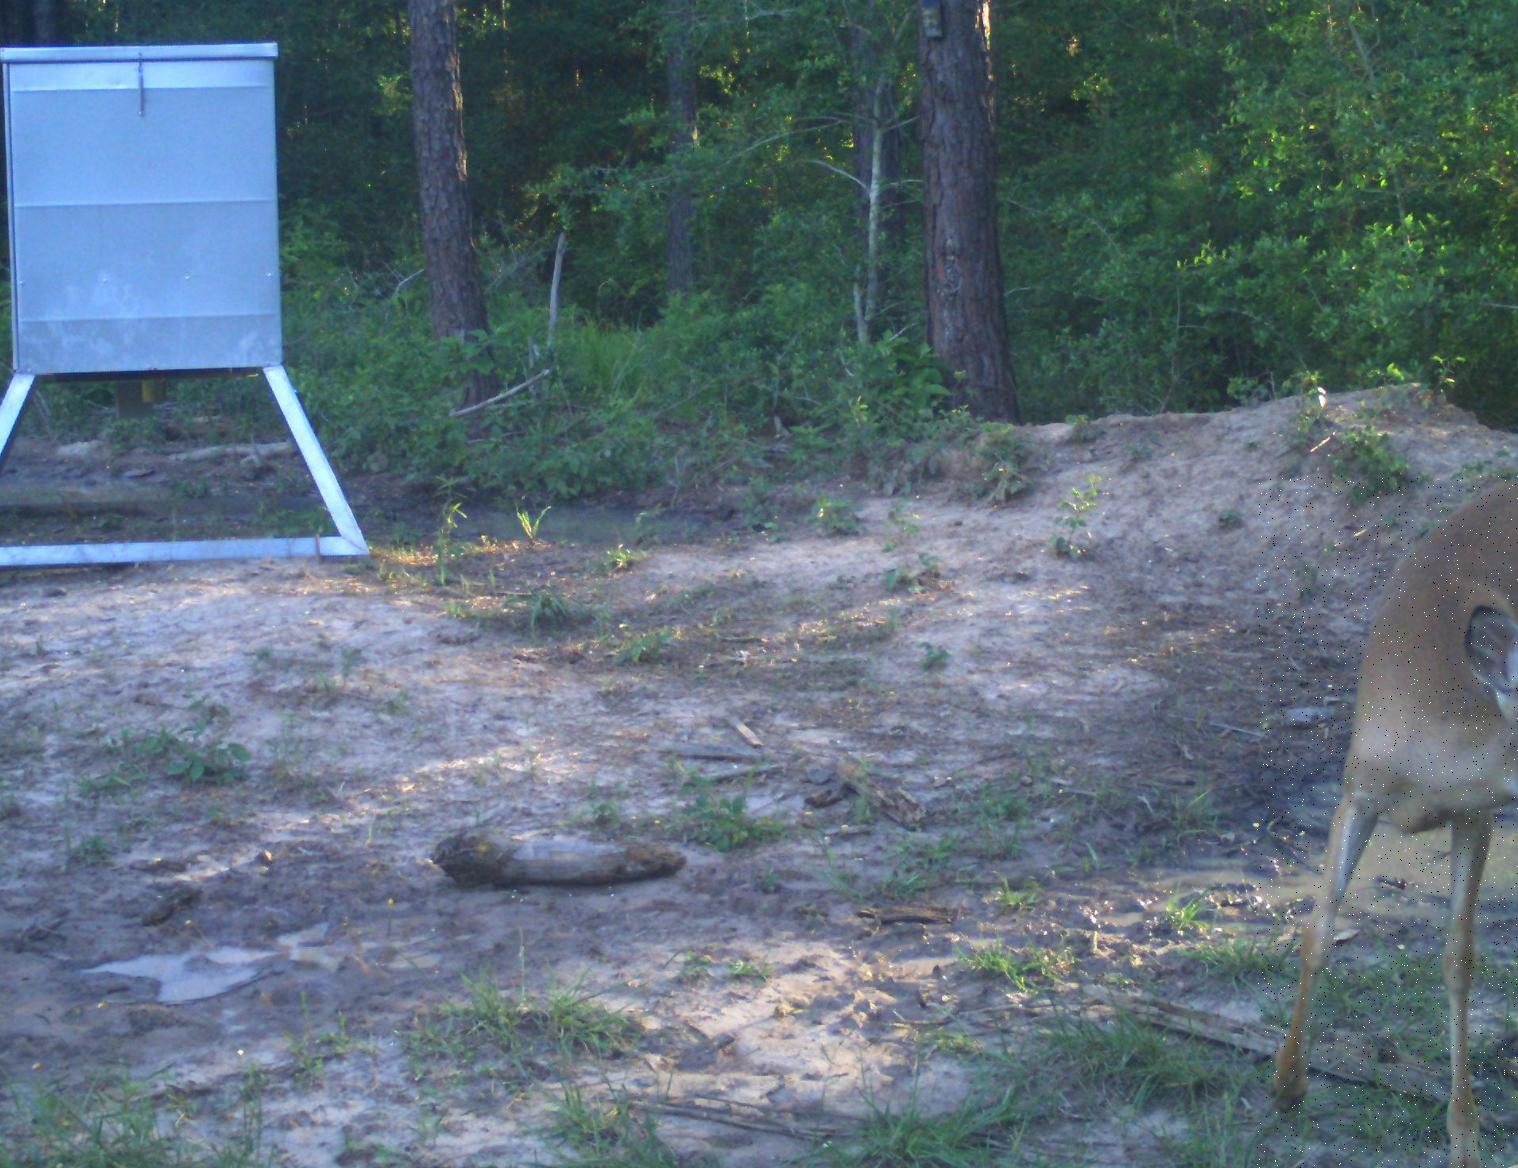Deer: (1257, 475, 1518, 1168)
